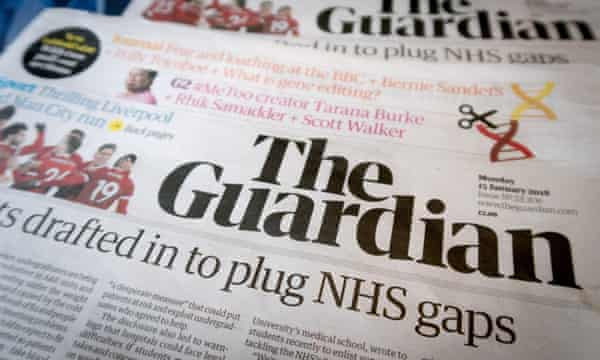news_paper: (1, 1, 600, 360)
